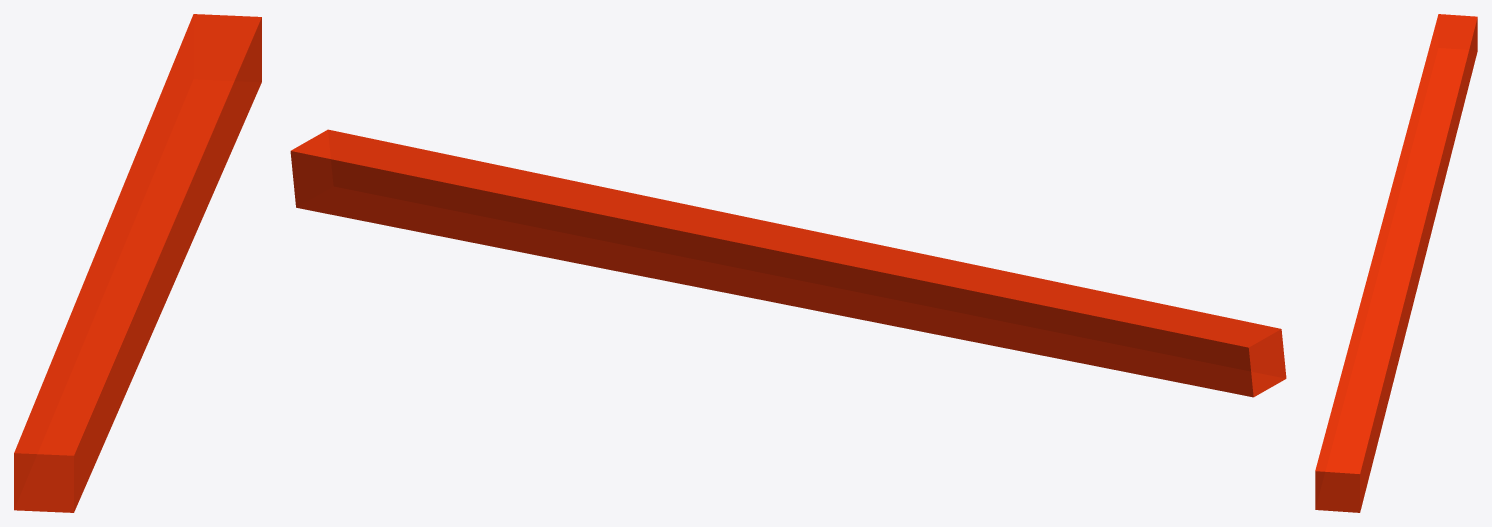
File: Event_420107950_EErechit_93.fbx
The picture shows the model from 3 angles, left to right: view 1: azimuth 90°, elevation 25°; view 2: azimuth 150°, elevation 25°; view 3: azimuth 270°, elevation 25°; orthographic projection. The views are drawn at different scales.
Visible parts, largest first — view 1: Model; view 2: Model; view 3: Model.
Part boxes in pixels (box(x1,y1,x2,y2)): Model: box(14, 14, 261, 512); Model: box(290, 129, 1286, 397); Model: box(1315, 14, 1477, 512).
Size of the model in its own units: 1.63 by 0.2543 by 0.2975.
